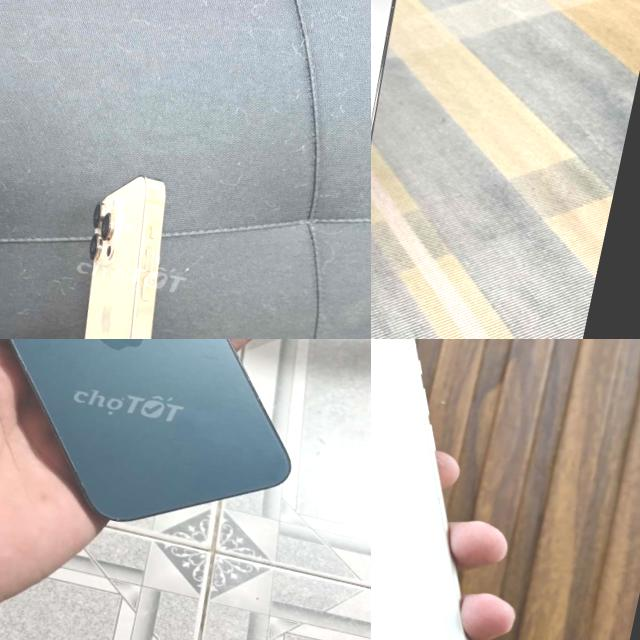gen_11: (371, 339, 560, 640)
gen_12_13: (0, 339, 350, 558), (371, 0, 456, 247)
gen_14: (25, 158, 224, 339)
